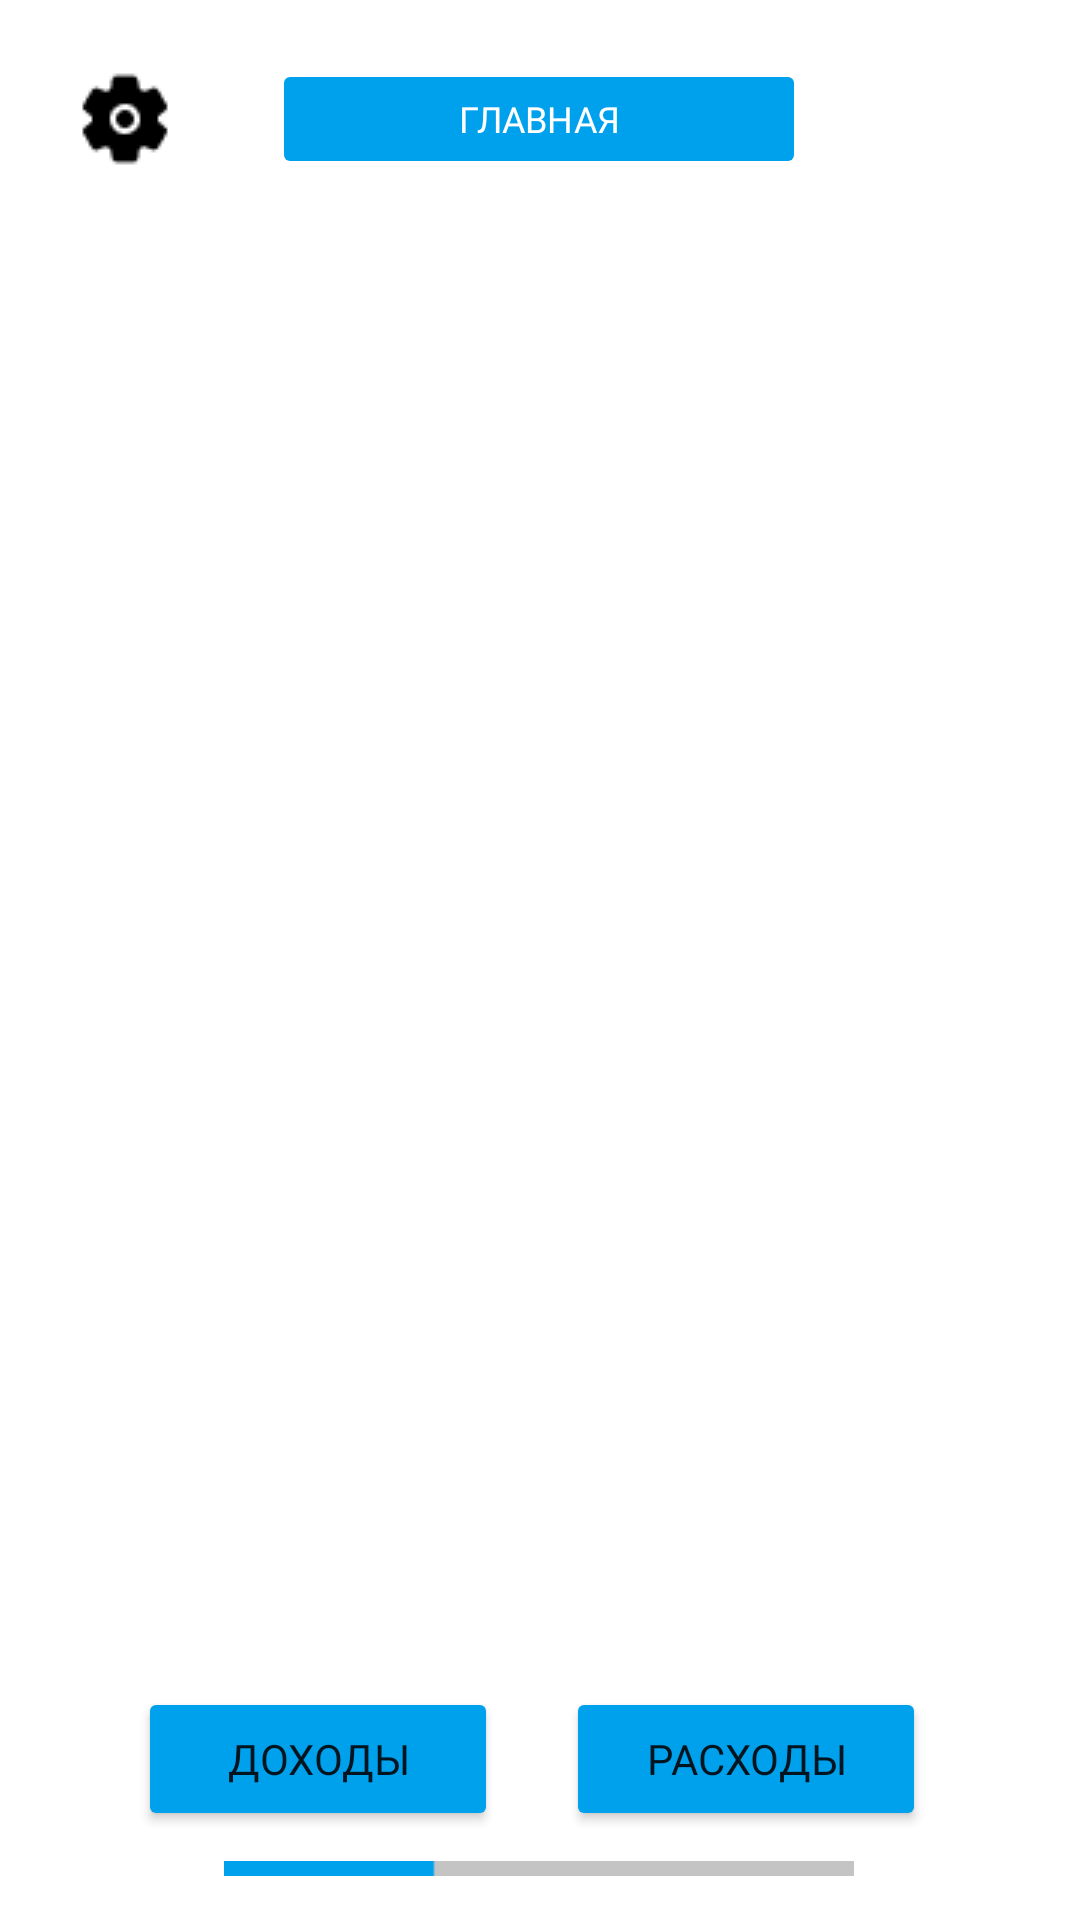

Named icons in this screenshot (1080*1920) and their centers, point (x, y):
settings: point (125, 119)
